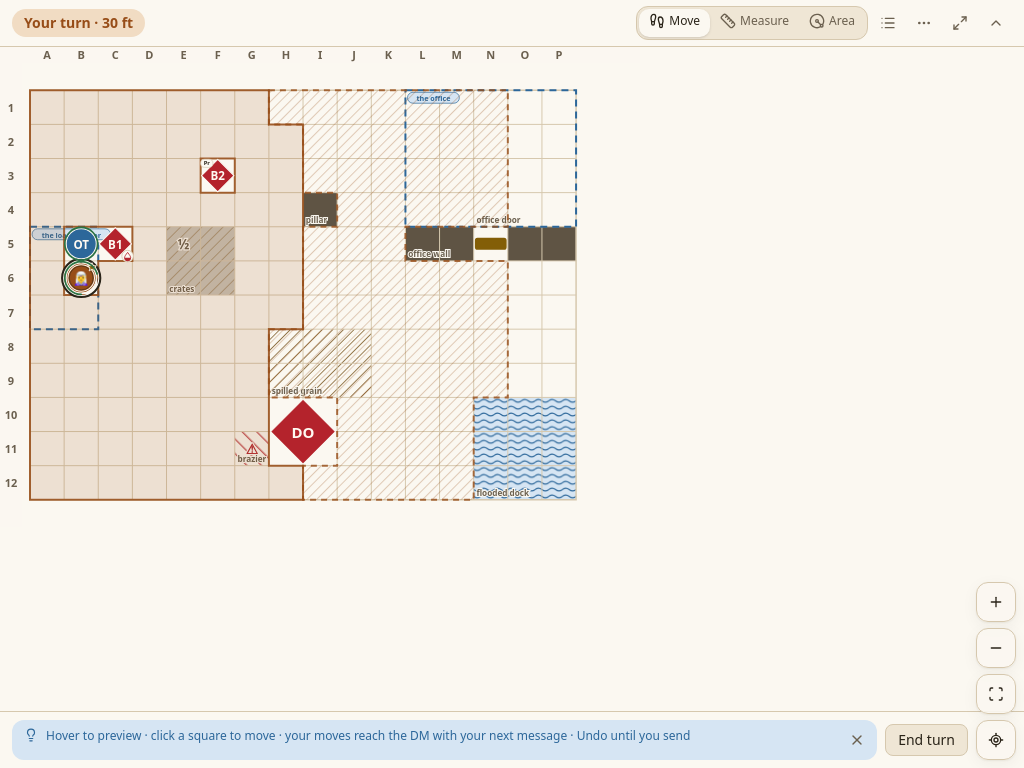
it: area templates (D50, D64) › aims Burning Hands at a square and rotates it in 45° steps
The width and height of the screenshot is (1024, 768).
Click the radio button labelled "Area".
click(832, 23)  # box x1=799 y1=9 x2=865 y2=37
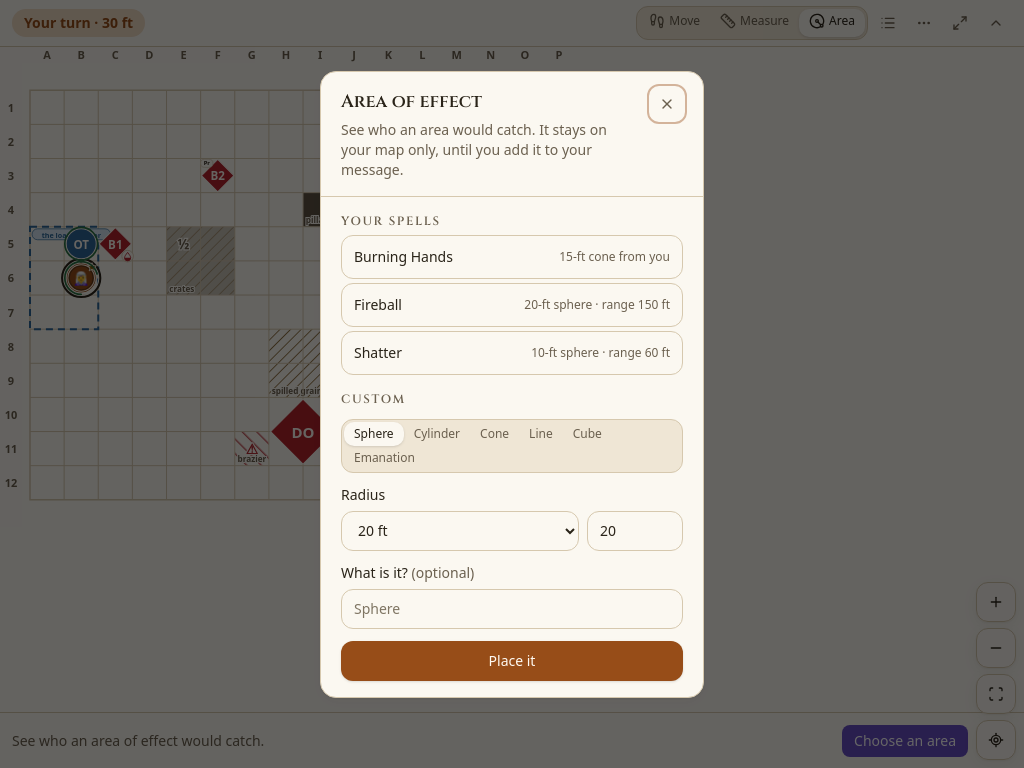
Click the button "Burning Hands 15-ft cone from you".
click(403, 256)  # box x1=341 y1=234 x2=683 y2=278
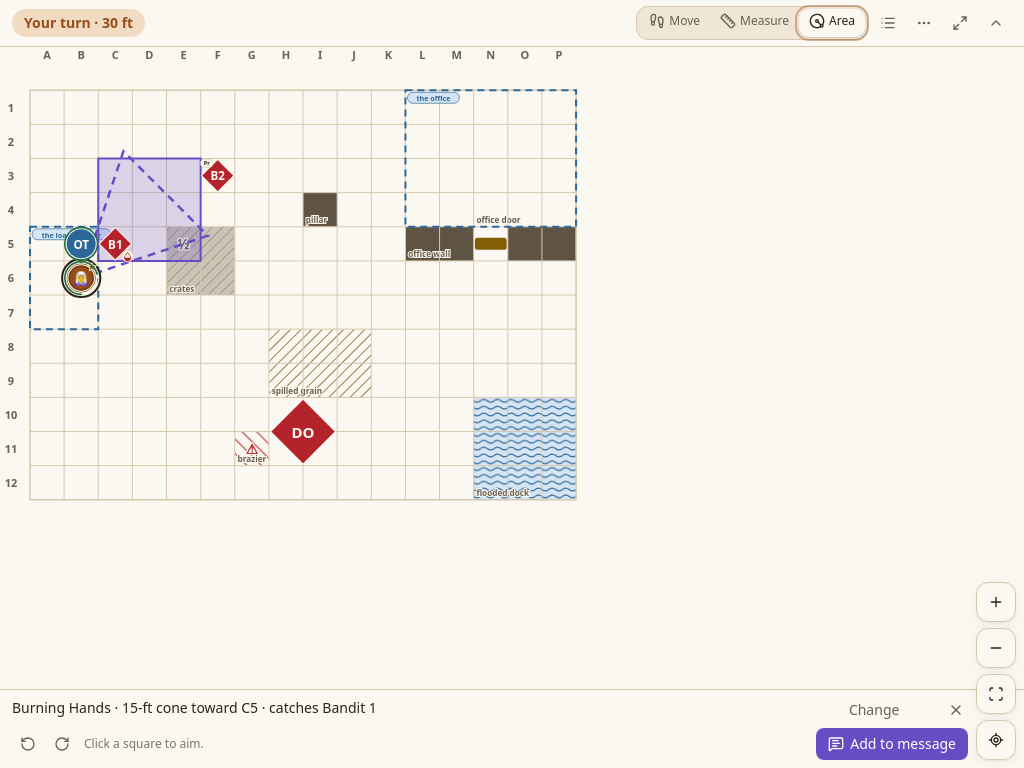
Press Enter in the element named "Battle map: Dockside warehouse, 16 by 12 squares"
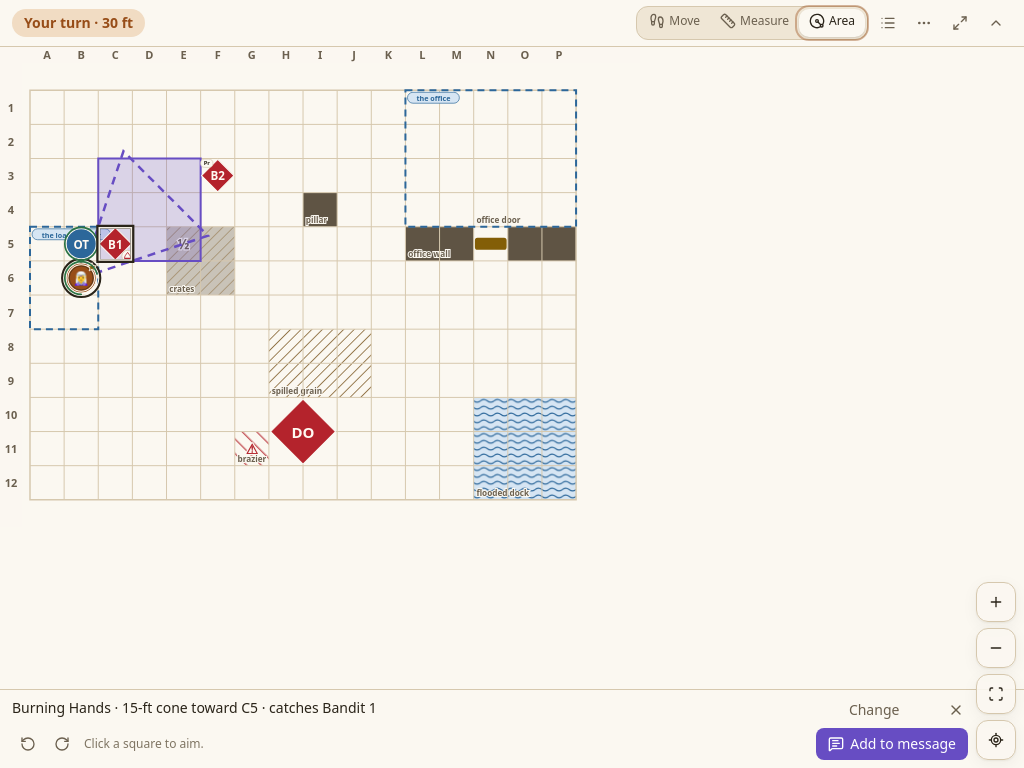
Result: the text with test id "area-readout" reads "Burning Hands · 15-ft cone toward C5 · catches Bandit 1" at x1=12 y1=698 x2=377 y2=717
Click the button "Add to message".
click(892, 744)  # box x1=816 y1=728 x2=968 y2=760
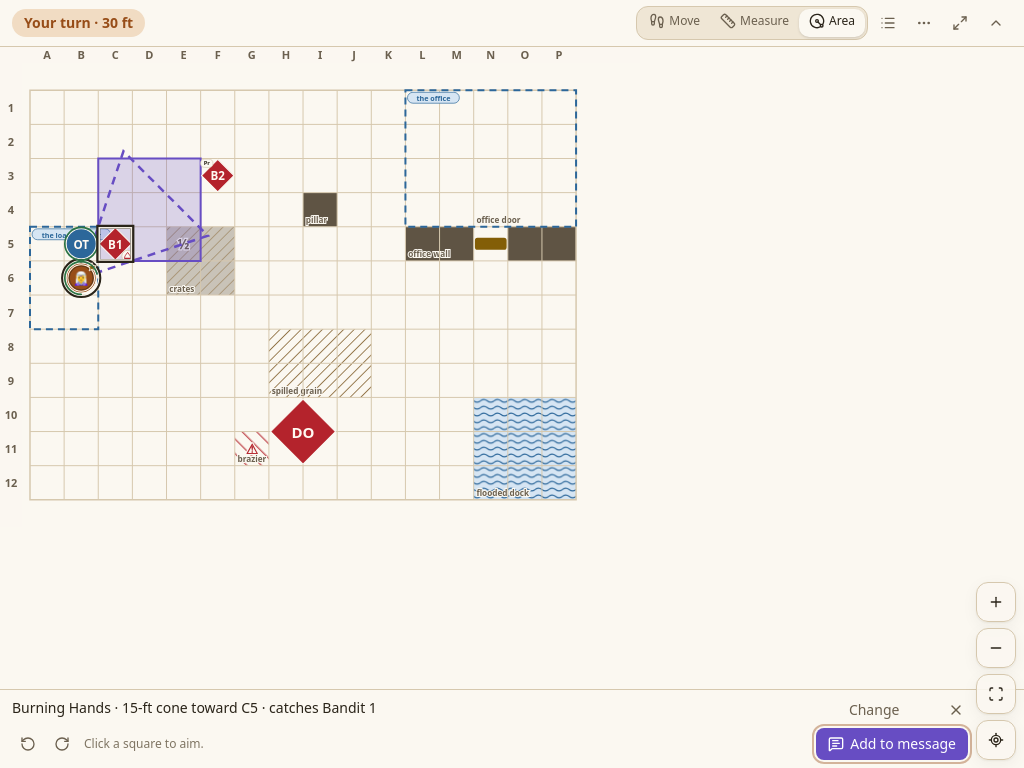
Click the button named "Rotate right".
click(62, 744)  # box x1=46 y1=728 x2=78 y2=760
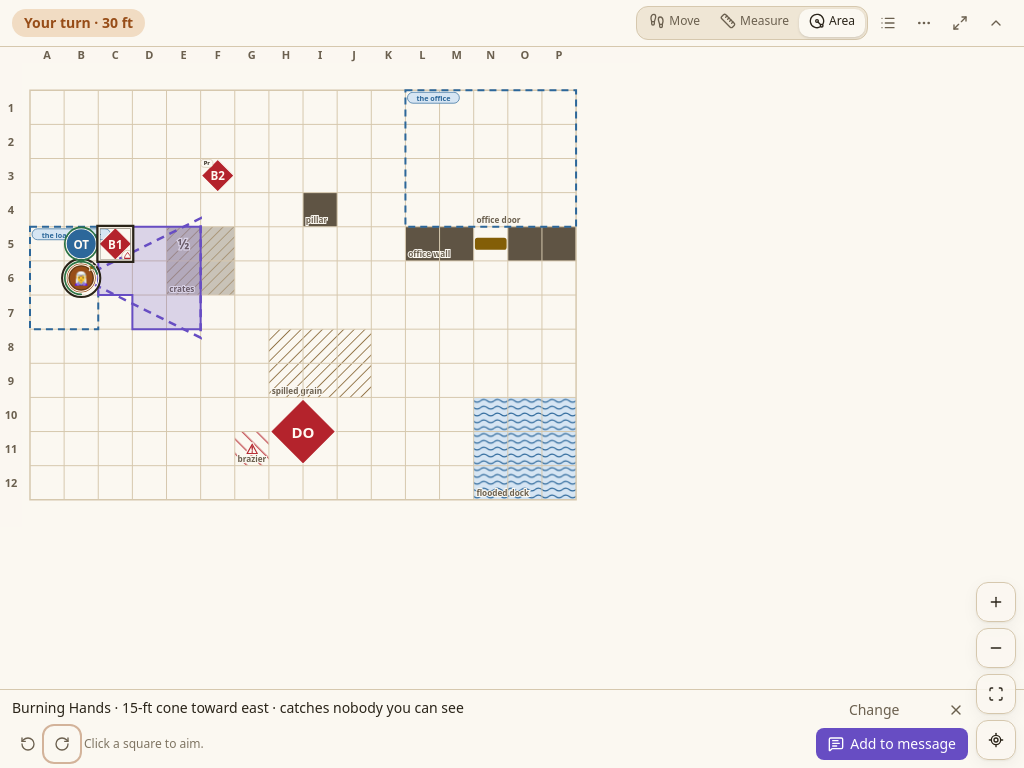
Result: the text with test id "area-readout" shows "Burning Hands · 15-ft cone toward east ·" at x1=12 y1=698 x2=464 y2=717
Press r in the element named "Battle map: Dockside warehouse, 16 by 12 squares"
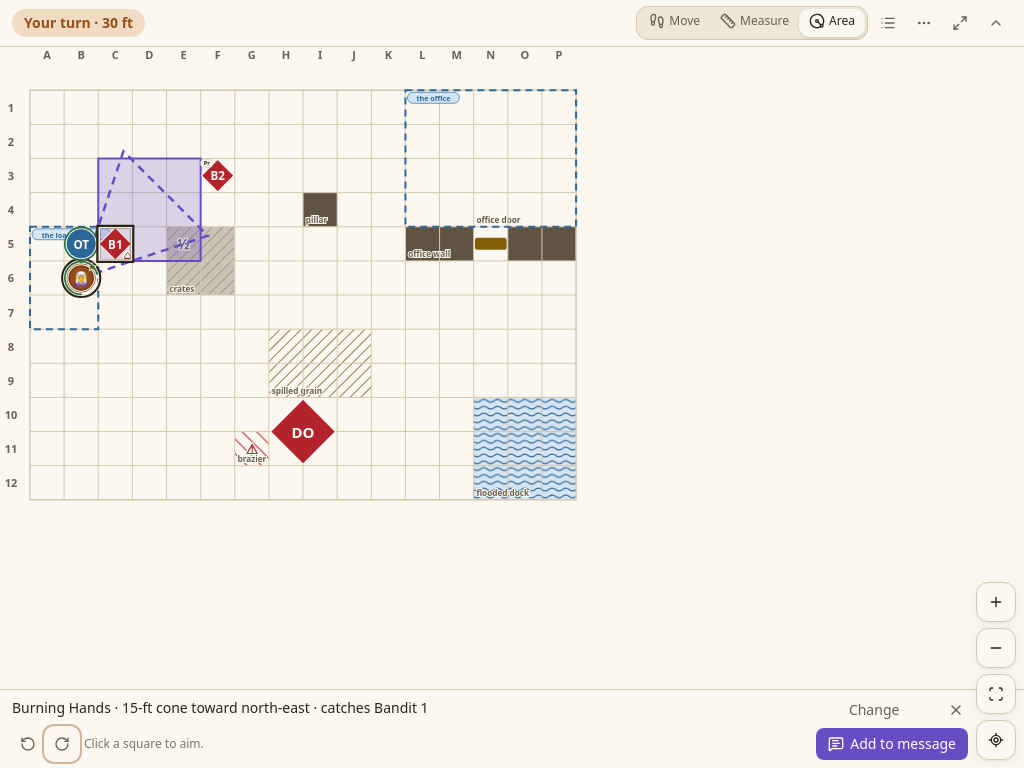
Result: the text with test id "area-readout" shows "toward north-east" at x1=12 y1=698 x2=429 y2=717
